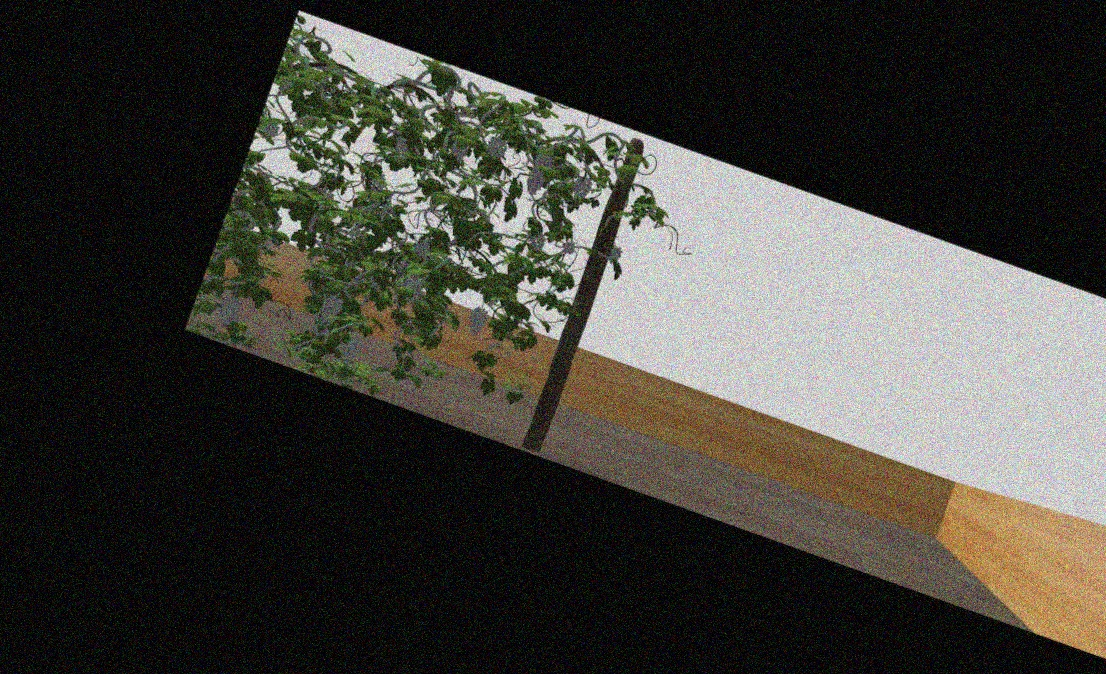grape: (217, 296, 240, 327), (319, 295, 340, 326), (468, 306, 486, 335), (484, 136, 505, 160), (535, 145, 553, 171), (572, 176, 590, 200), (450, 139, 467, 163), (525, 172, 542, 195), (340, 333, 356, 356), (415, 235, 430, 256), (608, 245, 621, 264)
